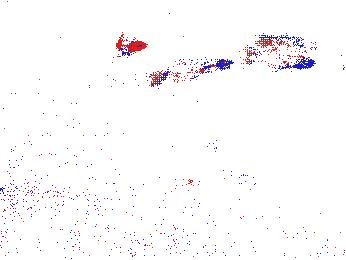red belly glassfish: (115, 39, 143, 56)
redtail glassfish: (243, 40, 317, 74), (149, 56, 233, 85), (255, 29, 318, 53)
